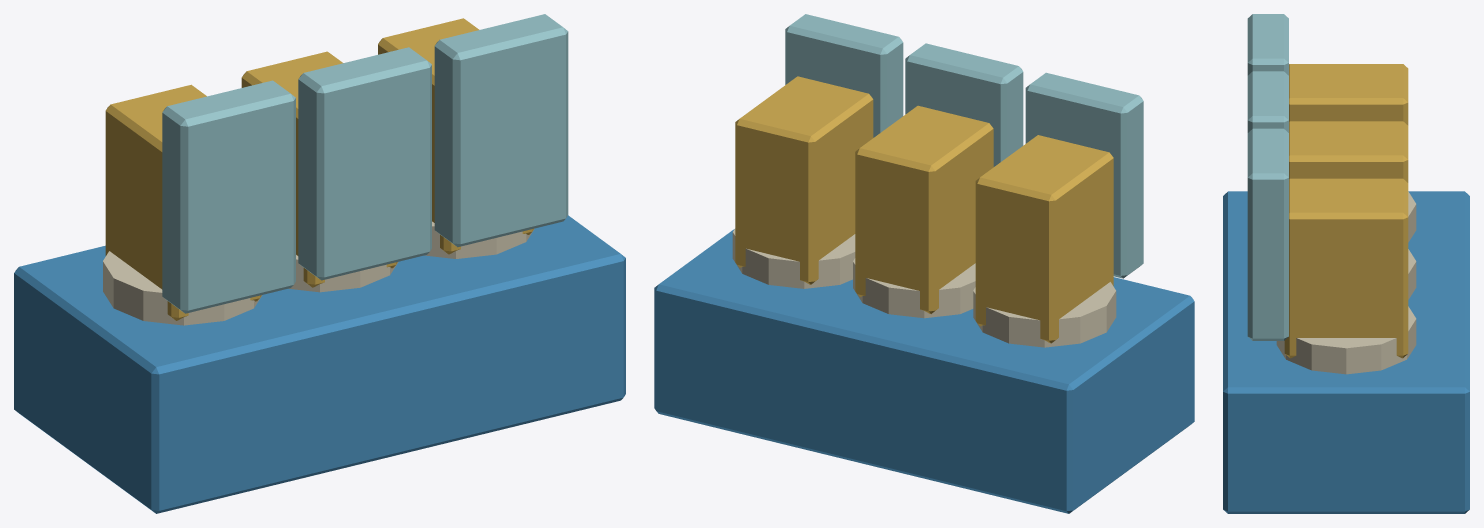
File: frost.glb
The picture shows the model from 3 angles, left to right: view 1: azimuth 30°, elevation 25°; view 2: azimuth 150°, elevation 25°; view 3: azimuth 270°, elevation 25°; orthographic projection. The views are drawn at different scales.
Parts seen in each view (by area): view 1: Base, Target2, Target0, Target1, Remnant0, Remnant2, Remnant1; view 2: Base, Target0, Target1, Target2, Remnant0, Remnant2, Remnant1; view 3: Base, Target2, Remnant2, Target0, Target1, Remnant0, Remnant1.
Part boxes in pixels (x1=…): Base: x1=14, y1=18, x2=625, y2=513; Target2: x1=434, y1=14, x2=568, y2=247; Target0: x1=162, y1=80, x2=295, y2=313; Target1: x1=298, y1=47, x2=431, y2=280; Remnant0: x1=103, y1=251, x2=262, y2=325; Remnant2: x1=424, y1=221, x2=534, y2=258; Remnant1: x1=289, y1=255, x2=398, y2=292; Base: x1=654, y1=76, x2=1194, y2=513; Target0: x1=1025, y1=72, x2=1143, y2=278; Target1: x1=905, y1=43, x2=1023, y2=166; Target2: x1=785, y1=14, x2=903, y2=137; Remnant0: x1=973, y1=282, x2=1116, y2=347; Remnant2: x1=732, y1=228, x2=855, y2=288; Remnant1: x1=853, y1=258, x2=975, y2=318; Base: x1=1223, y1=64, x2=1469, y2=513; Target2: x1=1247, y1=128, x2=1288, y2=340; Remnant2: x1=1276, y1=306, x2=1416, y2=374; Target0: x1=1247, y1=14, x2=1288, y2=75; Target1: x1=1247, y1=71, x2=1288, y2=132; Remnant0: x1=1408, y1=192, x2=1416, y2=242; Remnant1: x1=1408, y1=249, x2=1416, y2=299.
Size of the model in its own units: 1.15 by 0.865 by 0.6.
